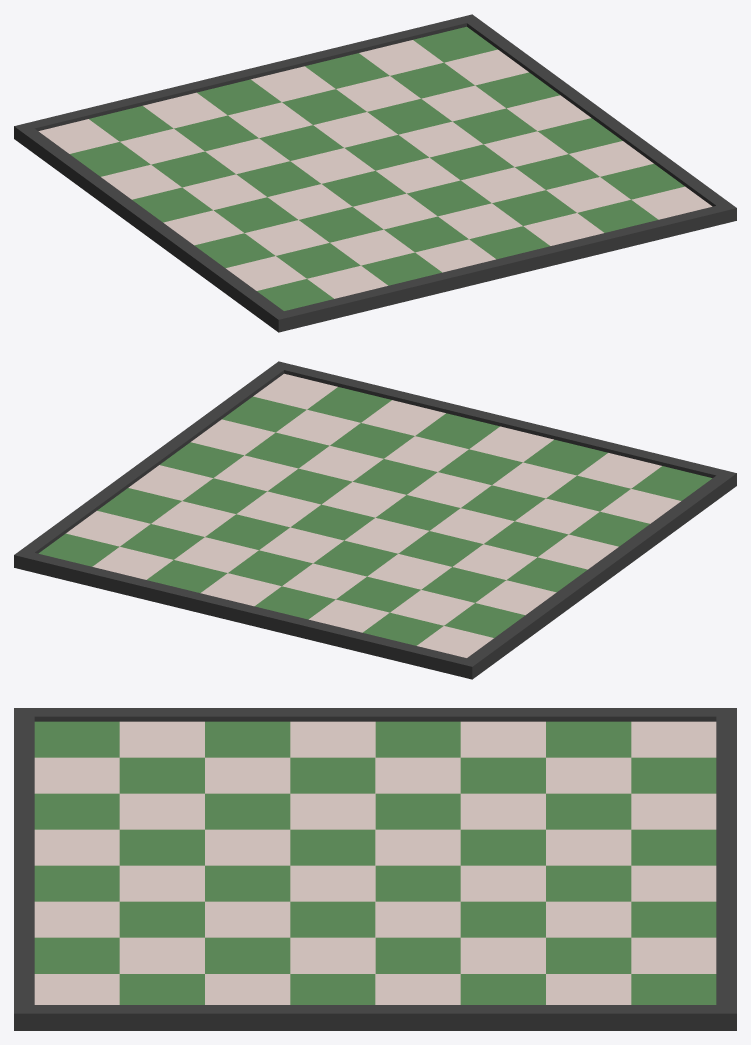
File: Board.fbx
3 renders of one model, top to bottom at view 1: azimuth 30°, elevation 25°; view 2: azimuth 150°, elevation 25°; view 3: azimuth 270°, elevation 25°, orthographic. The views are drawn at different scales.
Visible parts, largest first — view 1: Board; view 2: Board; view 3: Board.
Boxes of the visible parts, left/top/right/bottom form: Board: left=14, top=14, right=736, bottom=332; Board: left=14, top=361, right=736, bottom=679; Board: left=14, top=708, right=736, bottom=1030.
Size of the model in its own units: 2639 by 70 by 2639.
